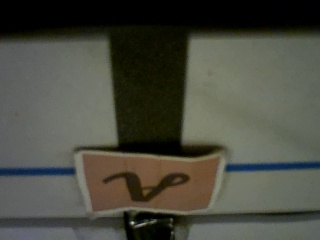A: (84, 155, 214, 211)
